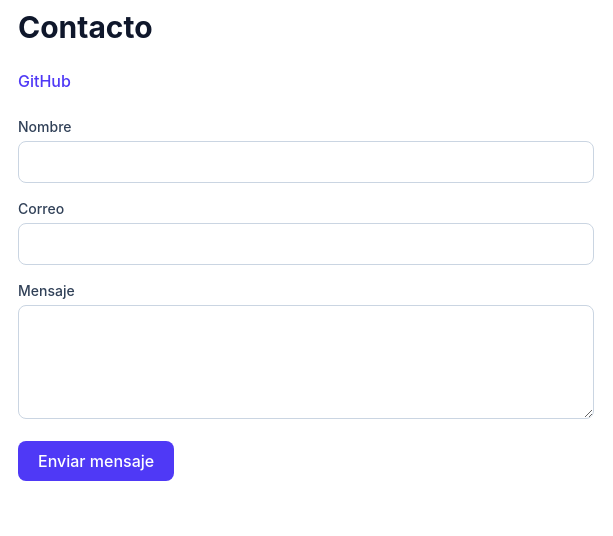
it: ContactSection › confirma el envío y limpia los campos cuando los datos son válidos
This screenshot has width=613, height=536.
Type "Ana" into the field labelled "Nombre" at (306, 162), box [18, 141, 594, 183]
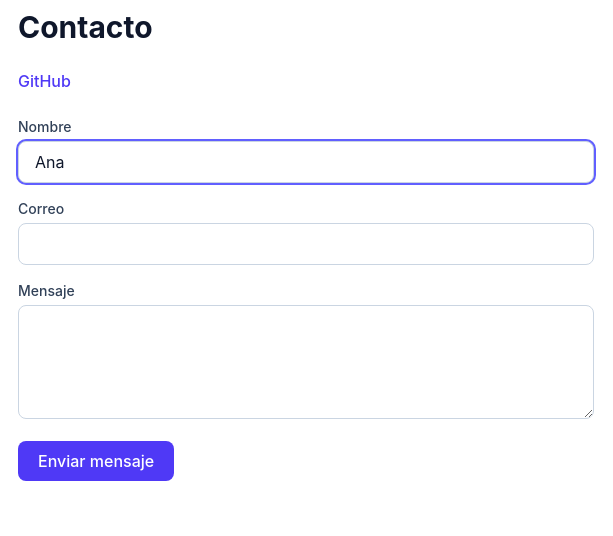
Type "ana@correo.com" into the field labelled "Correo" at (306, 244), box [18, 223, 594, 265]
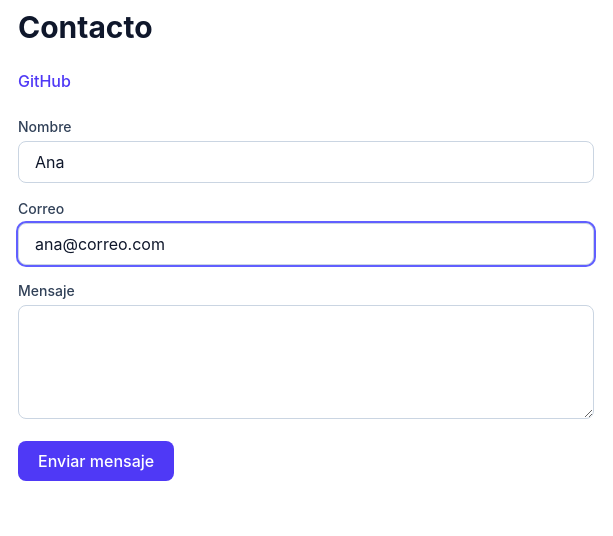
Type "Mensaje de prueba largo" into the text box labelled "Mensaje" at (306, 362), box [18, 305, 594, 419]
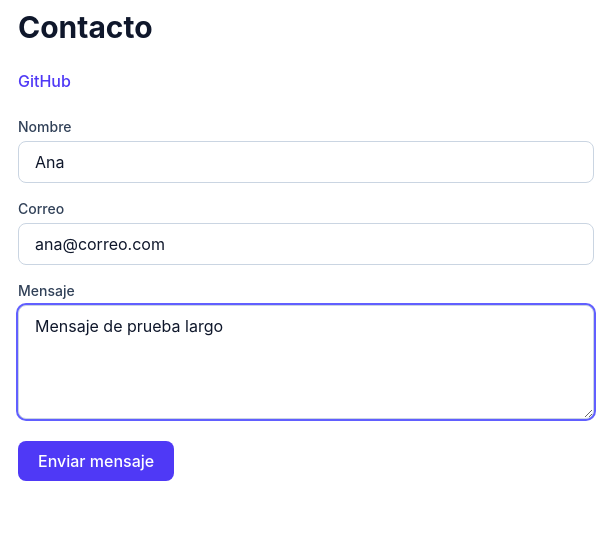
Click the button "Enviar mensaje" at (96, 461), box [18, 441, 174, 481]
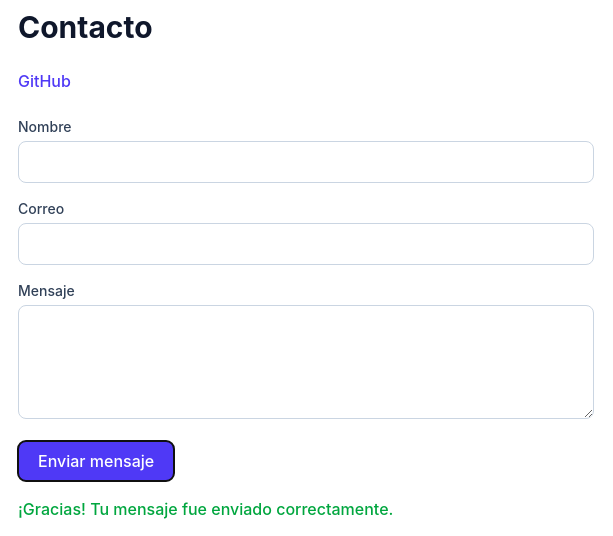
Check: the message shows "enviado correctamente", box [18, 499, 393, 519]
Check: the field labelled "Nombre" is empty, box [18, 141, 594, 183]
